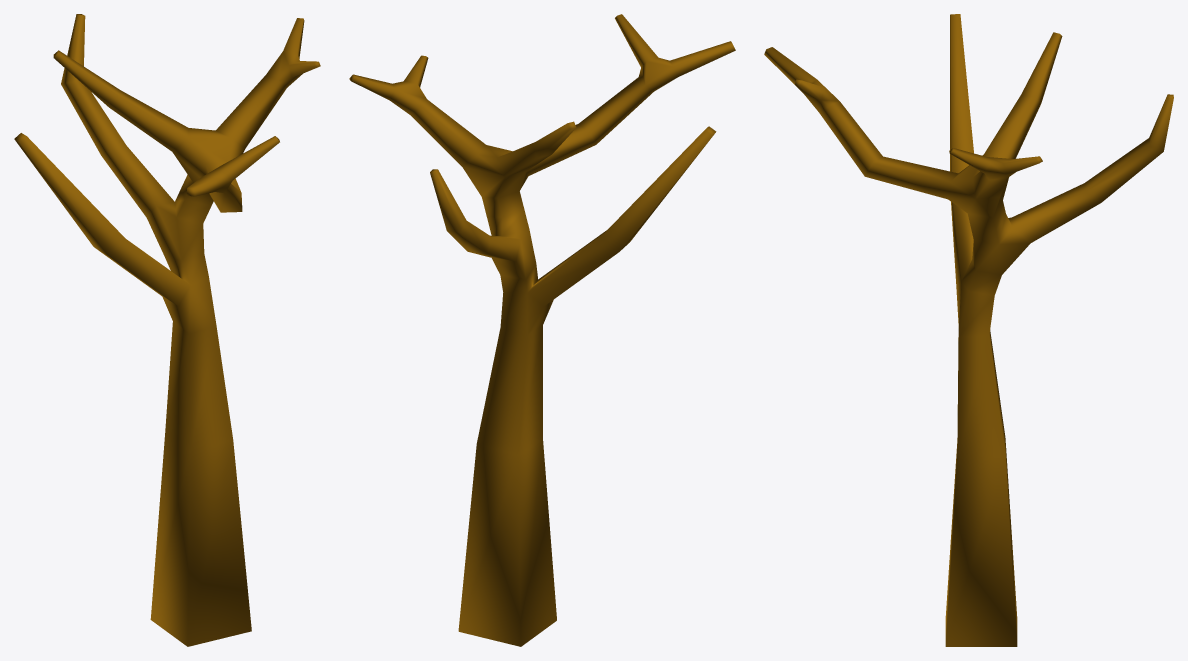
The model's file is TreeTrunk.fbx.
The picture shows the model from 3 angles, left to right: view 1: azimuth 30°, elevation 25°; view 2: azimuth 150°, elevation 25°; view 3: azimuth 270°, elevation 25°; orthographic projection. The views are drawn at different scales.
Visible parts, largest first — view 1: TreeTrunk; view 2: TreeTrunk; view 3: TreeTrunk.
Boxes of the visible parts, x1,y1,x2,y2 form: TreeTrunk: (14, 14, 320, 646); TreeTrunk: (349, 14, 735, 646); TreeTrunk: (764, 14, 1173, 646).
Bounding box in the file's own units: 248 × 408 × 276.
